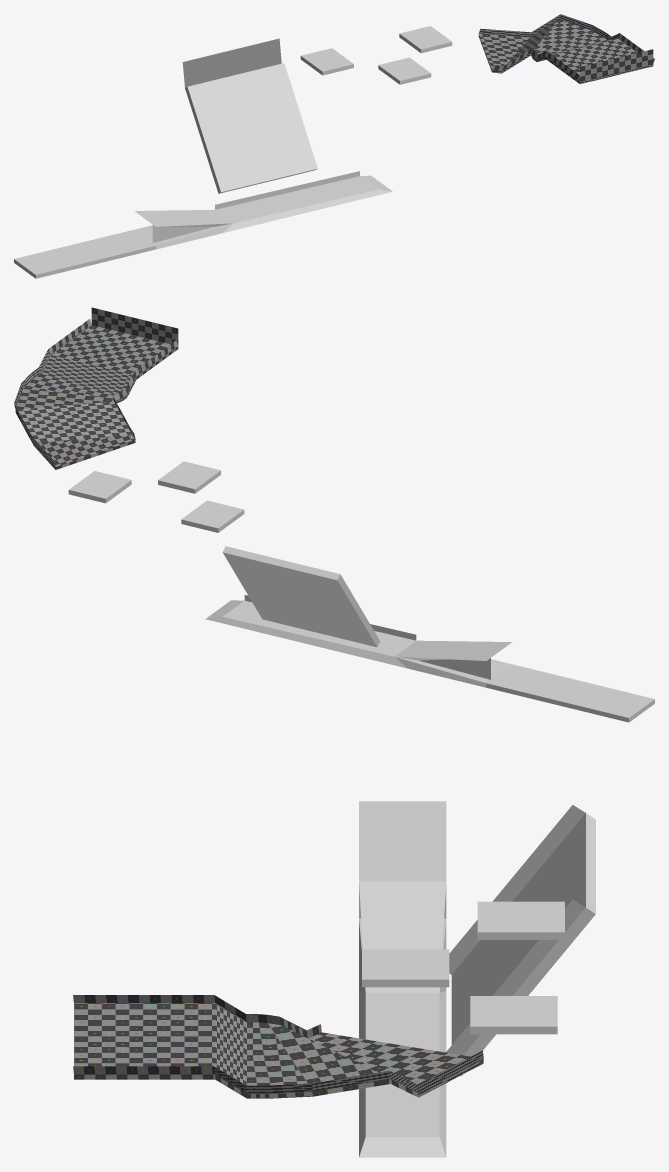
File: Level.gltf
3 renders of one model, top to bottom at view 1: azimuth 30°, elevation 25°; view 2: azimuth 150°, elevation 25°; view 3: azimuth 270°, elevation 25°, orthographic. The views are drawn at different scales.
Visible parts, largest first — view 1: Cube.004, Cube.005, Cube, Cube.001, Cube.002, Cube.003; view 2: Cube, Cube.005, Cube.004, Cube.001, Cube.003, Cube.002; view 3: Cube, Cube.005, Cube.004, Cube.001, Cube.002, Cube.003.
Part boxes in pixels (x1,y1,x2,y2): Cube.004: [182, 38, 317, 193]; Cube.005: [14, 171, 392, 278]; Cube: [478, 14, 654, 84]; Cube.001: [399, 26, 452, 53]; Cube.002: [378, 57, 431, 84]; Cube.003: [300, 48, 353, 75]; Cube: [14, 307, 178, 469]; Cube.005: [205, 595, 654, 722]; Cube.004: [222, 546, 380, 647]; Cube.001: [68, 471, 131, 503]; Cube.003: [181, 500, 244, 532]; Cube.002: [158, 461, 220, 493]; Cube: [73, 995, 483, 1098]; Cube.005: [359, 801, 446, 1157]; Cube.004: [446, 805, 595, 1075]; Cube.001: [470, 996, 557, 1034]; Cube.002: [362, 949, 449, 987]; Cube.003: [477, 901, 564, 939].
Bounding box in the file's own units: 124 × 32.09 × 51.17.
1 material, 1 textured.
